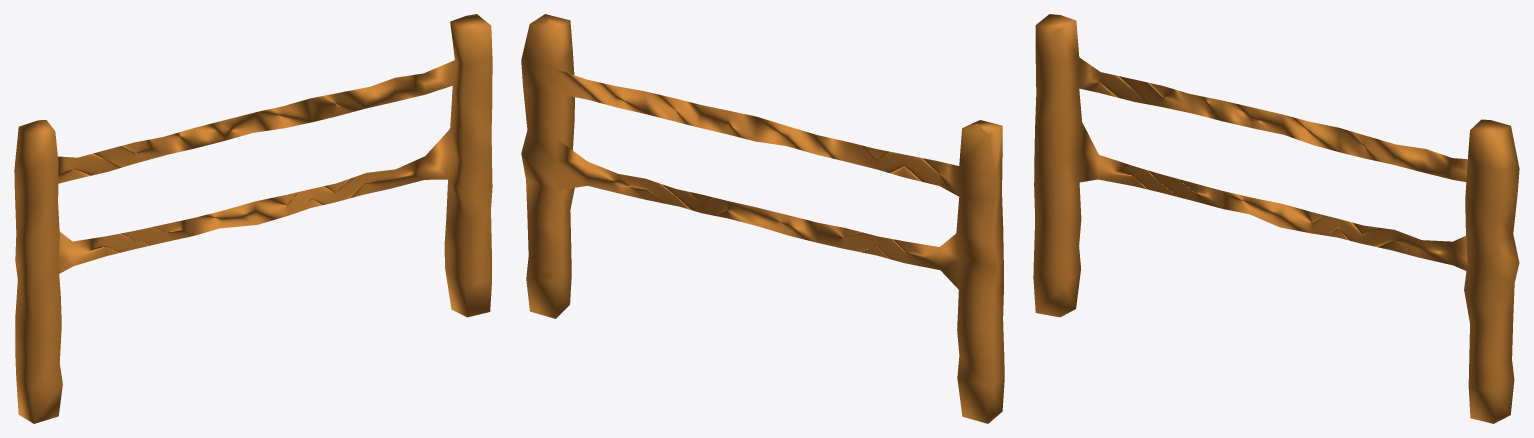
Rendered from fence.glb.
3 views of the same model, side by side, from view 1: azimuth 30°, elevation 25°; view 2: azimuth 150°, elevation 25°; view 3: azimuth 330°, elevation 25° (orthographic).
Size of the model in its own units: 0.9245 by 0.5485 by 0.0623.
Materials: 1 (1 with a texture image).
